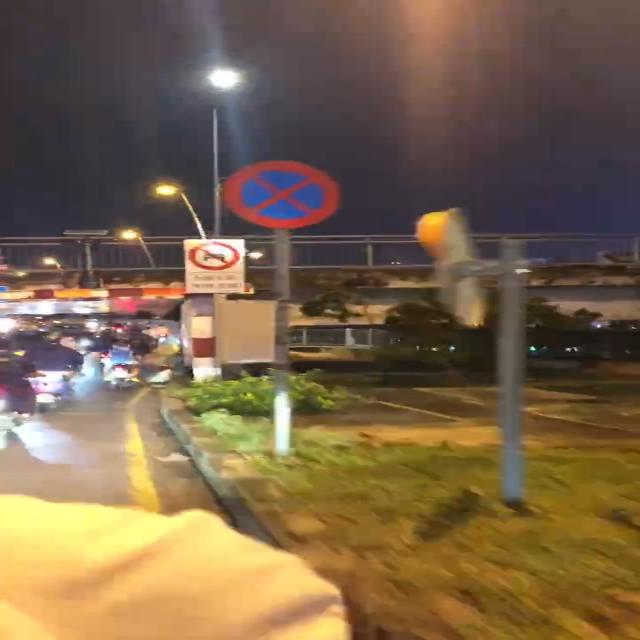Bien bao cam dung xe va do xe: (218, 160, 348, 232)
Bien bao cam xe oto: (184, 237, 243, 272)
